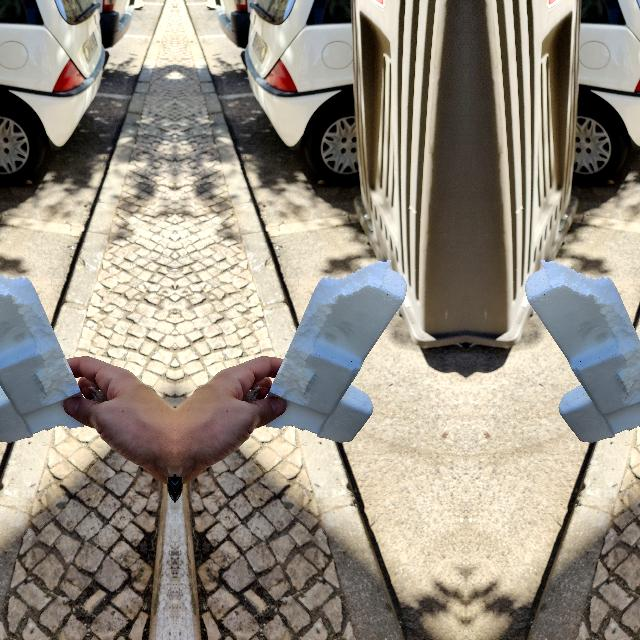Plastic: (247, 251, 415, 453), (516, 251, 640, 453), (0, 251, 101, 453)
